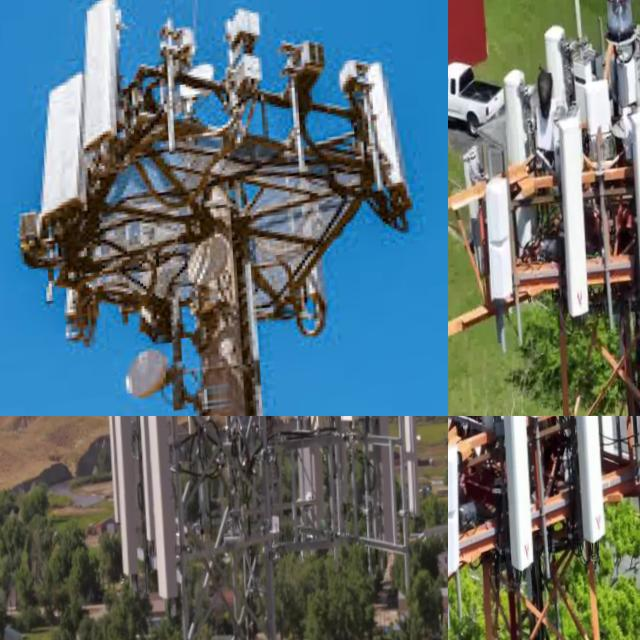GSM Antenna: (137, 416, 187, 609), (33, 73, 94, 230), (552, 115, 595, 334), (71, 0, 126, 163), (358, 60, 408, 214), (358, 416, 405, 573), (495, 416, 540, 578), (105, 416, 144, 585), (567, 416, 611, 559), (292, 416, 332, 558), (479, 178, 521, 312), (450, 137, 490, 273), (324, 416, 356, 576), (501, 65, 535, 176), (396, 416, 426, 532), (541, 17, 571, 108), (448, 443, 467, 586), (628, 109, 640, 328), (582, 81, 619, 150)
Microwave Antenna: (123, 348, 175, 407), (188, 238, 233, 294), (178, 58, 221, 112)
